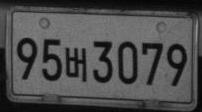0: (117, 40, 138, 85)
3: (92, 40, 113, 82)
5: (41, 38, 63, 81)
7: (141, 42, 164, 85)
9: (166, 42, 188, 87), (16, 37, 38, 80)
버: (64, 47, 87, 82)
